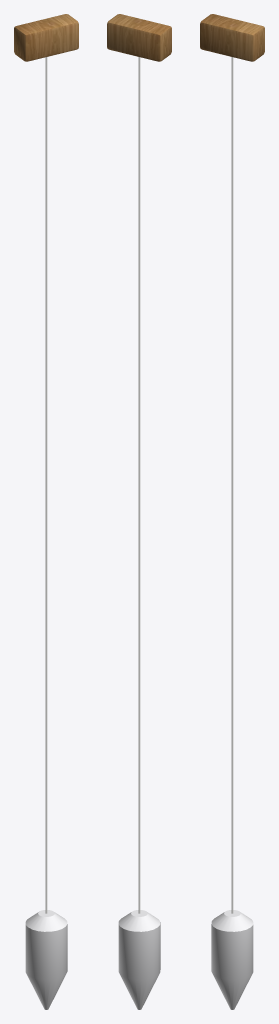
The model's file is EQP-MAO-008.glb.
3 renders of one model, left to right at view 1: azimuth 30°, elevation 25°; view 2: azimuth 150°, elevation 25°; view 3: azimuth 330°, elevation 25°, orthographic.
Parts seen in each view (by area): view 1: EQP-MAO-008_peso, EQP-MAO-008_fio, EQP-MAO-008_taco; view 2: EQP-MAO-008_peso, EQP-MAO-008_fio, EQP-MAO-008_taco; view 3: EQP-MAO-008_peso, EQP-MAO-008_fio, EQP-MAO-008_taco.
Boxes of the visible parts, box(x1,y1,x2,y2) form: EQP-MAO-008_peso: box(25, 910, 67, 1009); EQP-MAO-008_fio: box(45, 57, 47, 913); EQP-MAO-008_taco: box(14, 14, 78, 61); EQP-MAO-008_peso: box(118, 910, 160, 1009); EQP-MAO-008_fio: box(138, 57, 140, 913); EQP-MAO-008_taco: box(107, 14, 171, 61); EQP-MAO-008_peso: box(211, 910, 253, 1009); EQP-MAO-008_fio: box(231, 57, 233, 913); EQP-MAO-008_taco: box(200, 14, 264, 61).
Size of the model in its own units: 0.06 by 1.03 by 0.04.
3 materials, 1 textured.
